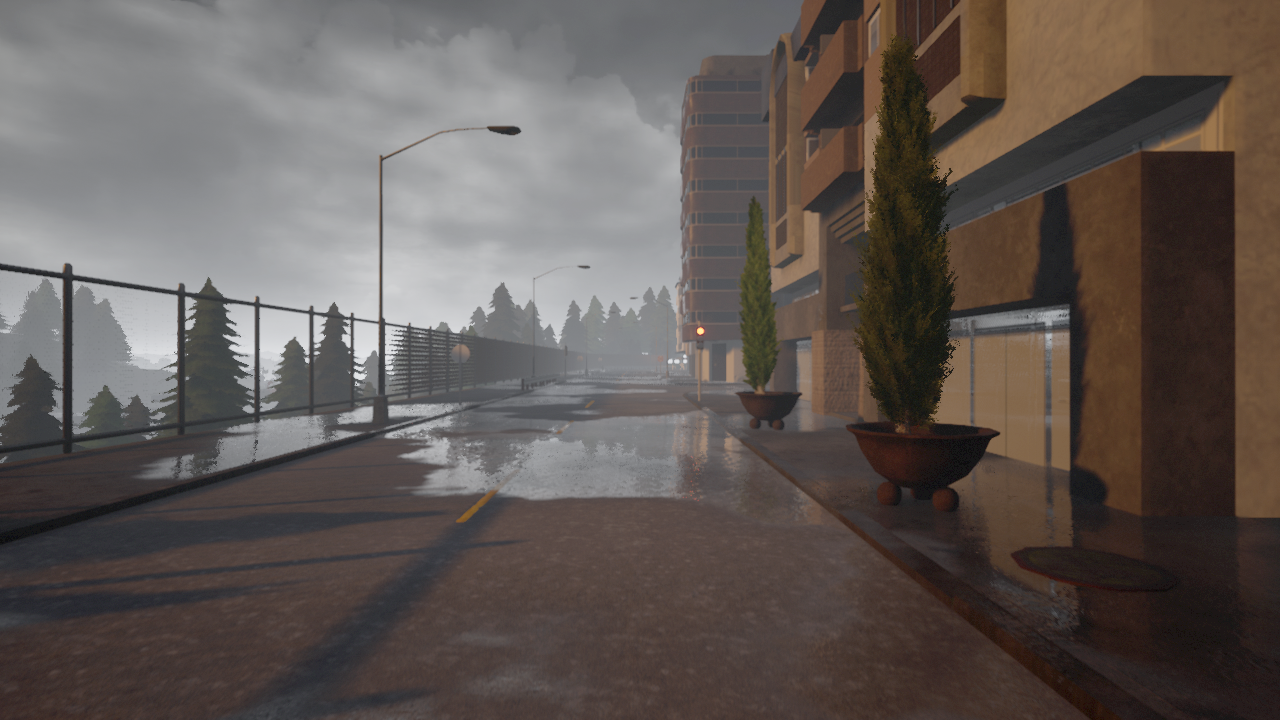red: (695, 325, 705, 351)
